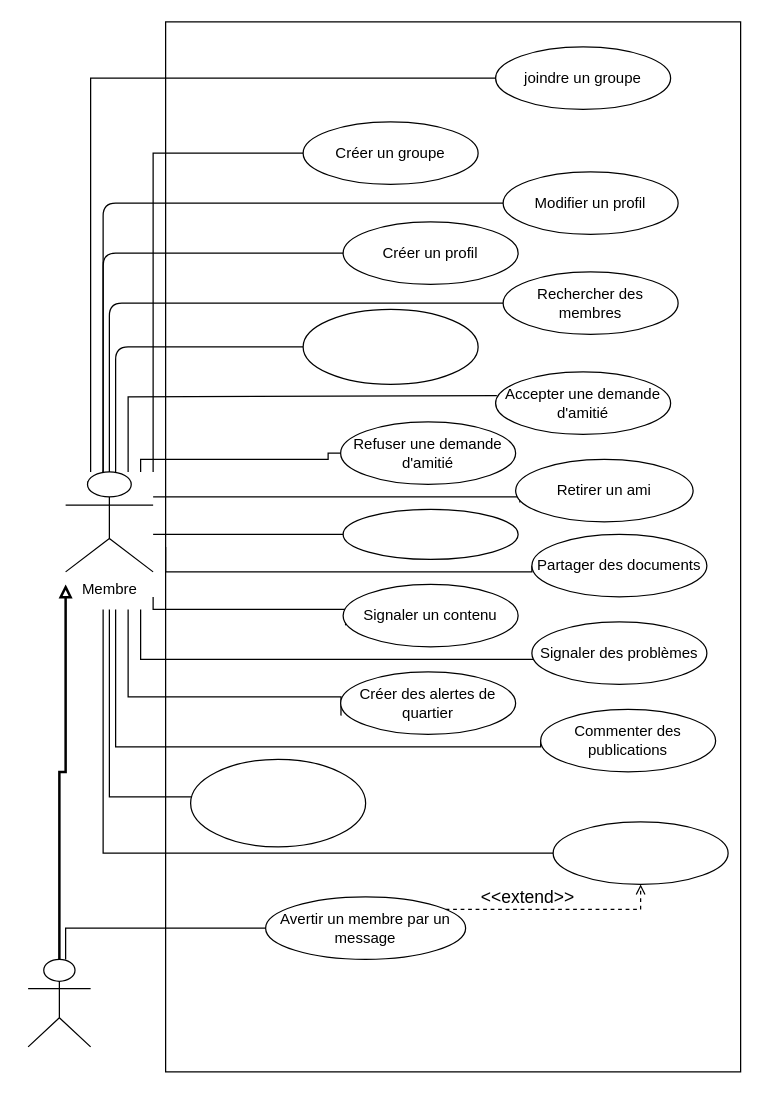
This 763x1095 diagram has some shape labels left out. The shapes that lost their labels are listed below. From the top down, each one's centre as x and y in pixels, then its label:
At point 390,346: "Envoyer une demande d'amitié".
At point 430,533: "Planifier un évenement".
At point 277,802: "Effectuer des publications".
At point 640,852: "Consulter les contenus publiés".
At point 59,1002: "Modérateur".
